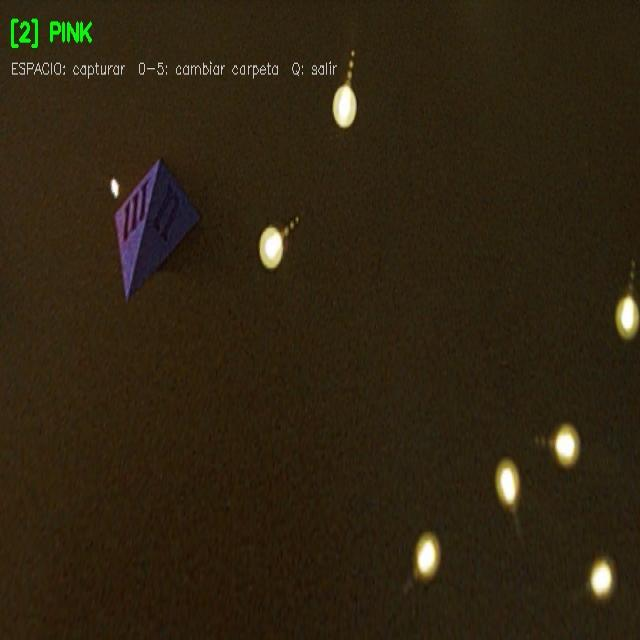pink: (114, 159, 199, 299)
